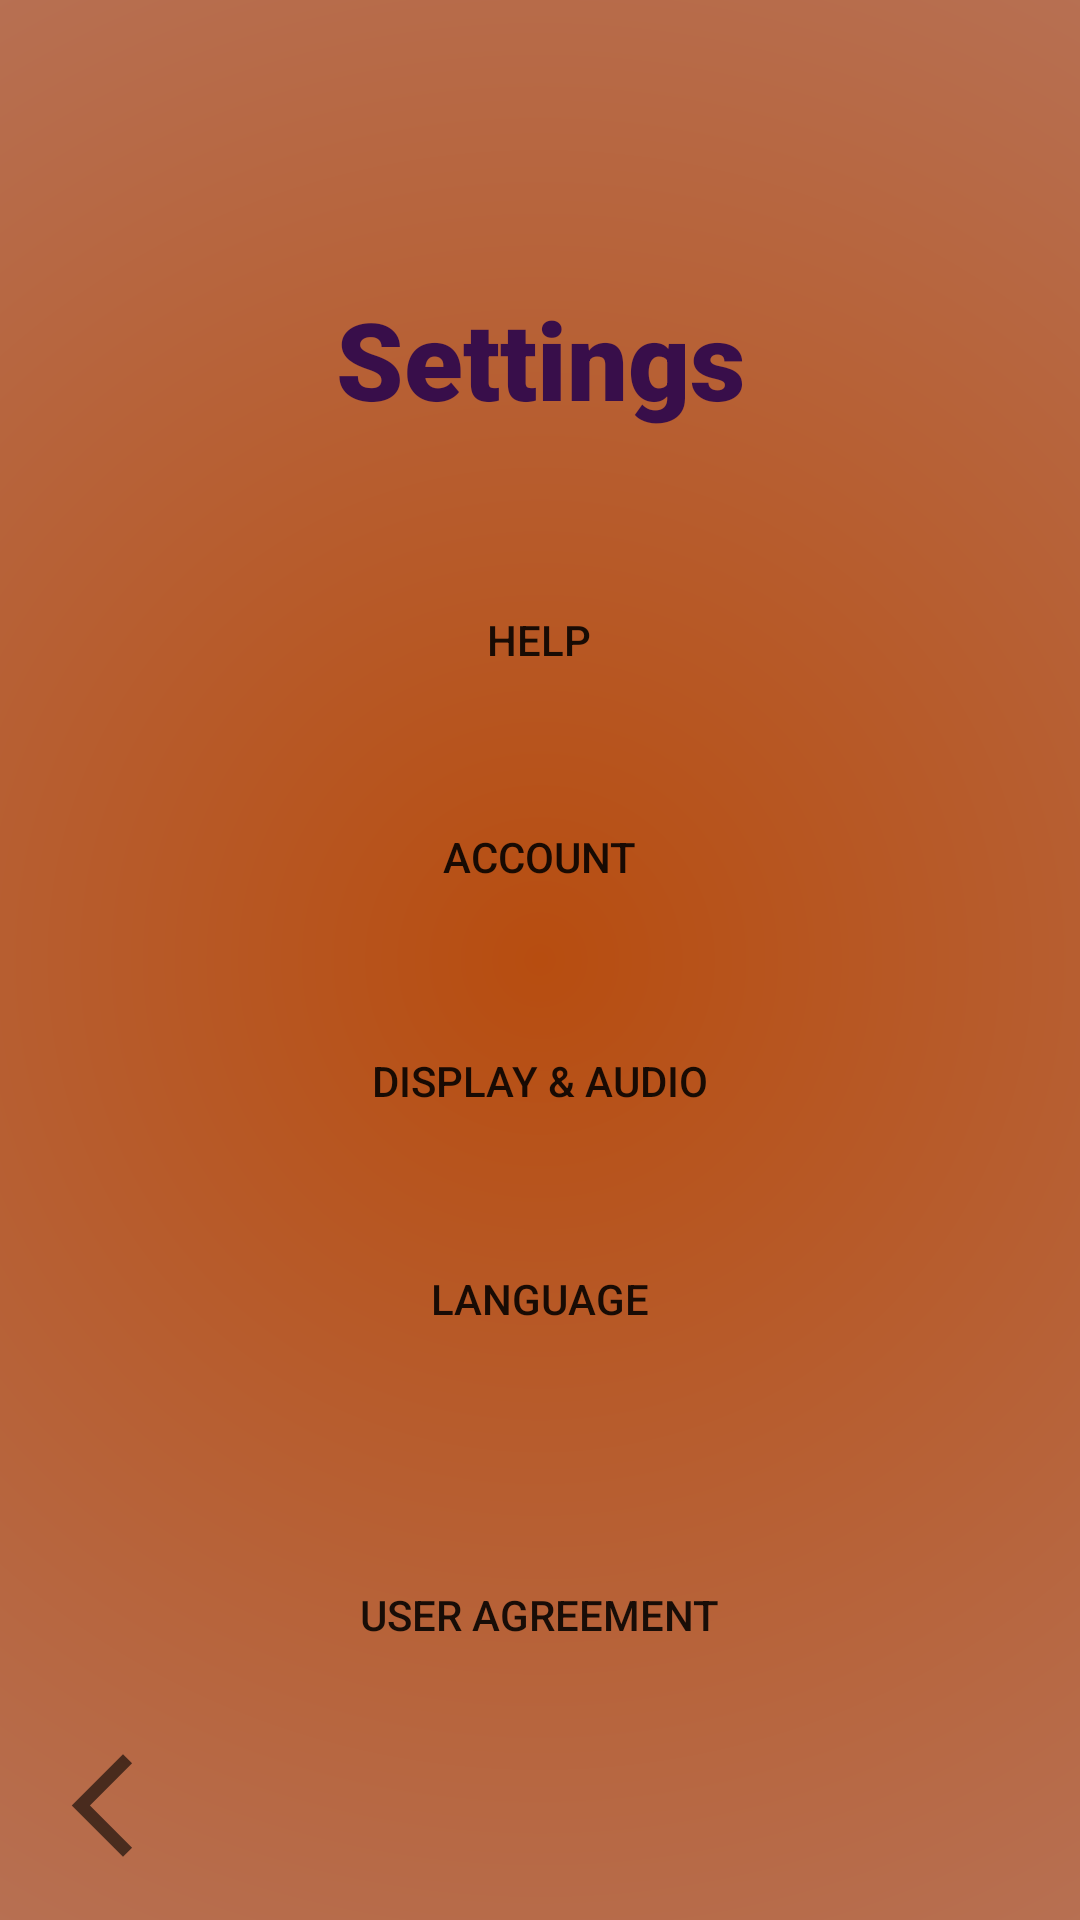

Where to tap for icons on this 1080*1920 app screen, as point (x, y):
arrow back: point (102, 1805)
